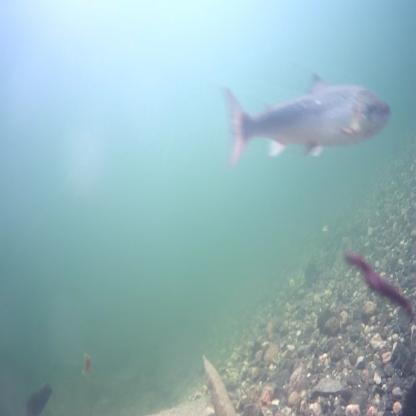salmon: (218, 66, 396, 167)
